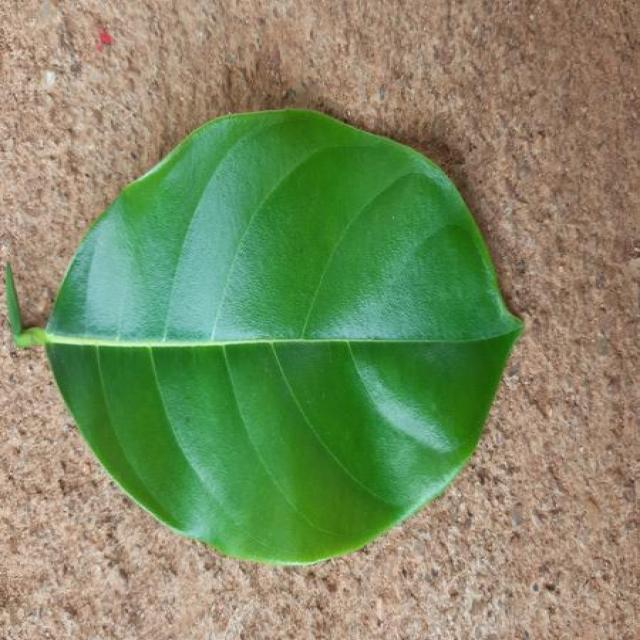Jackfruit: (45, 110, 522, 564)
